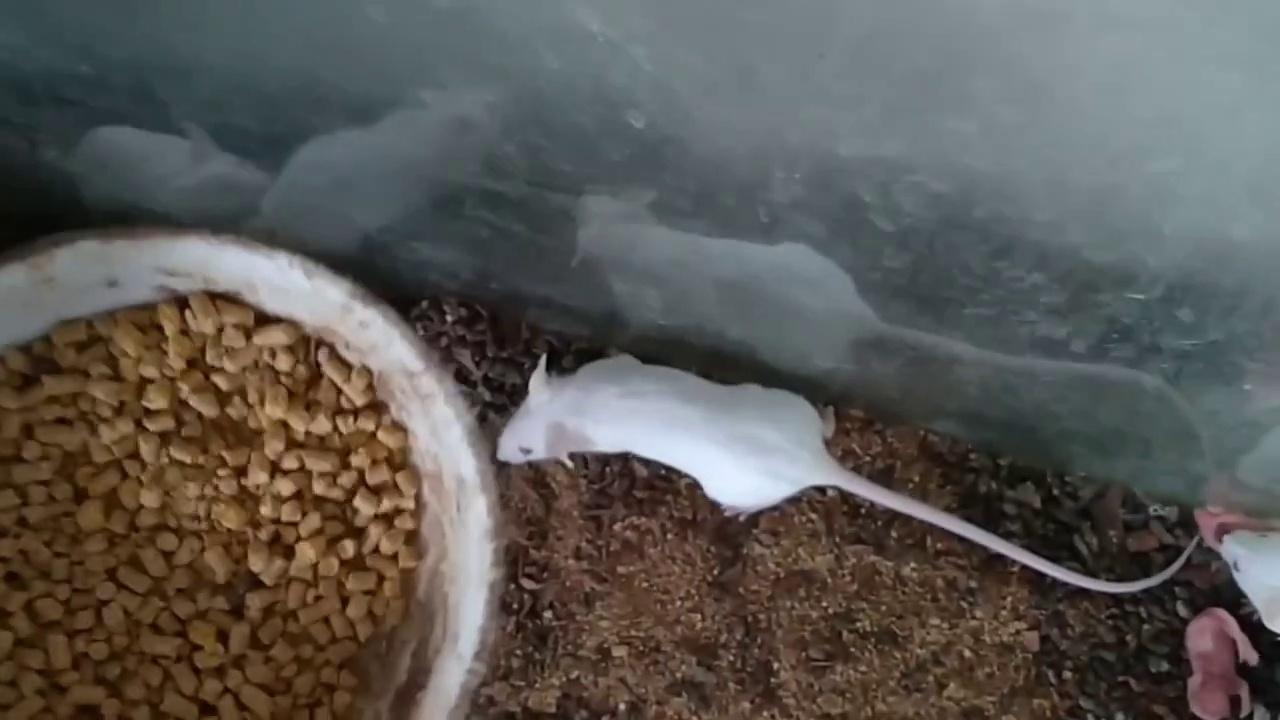rat: (496, 350, 1197, 592), (1220, 528, 1280, 634)
